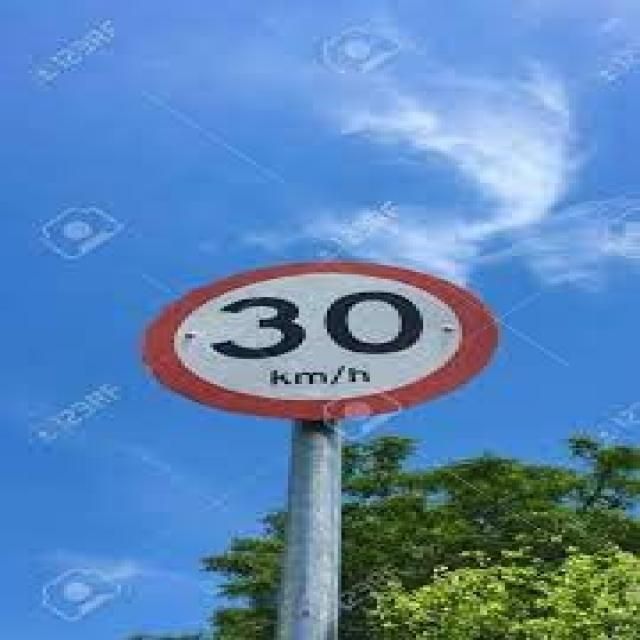speed_limit_30: (132, 253, 528, 425)
